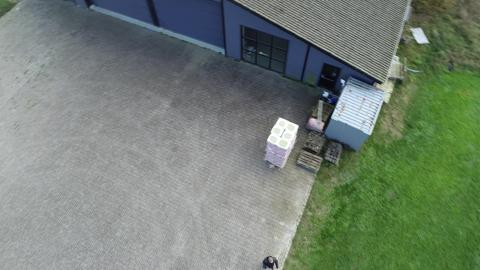RockwoolPallet: (264, 117, 300, 169)
